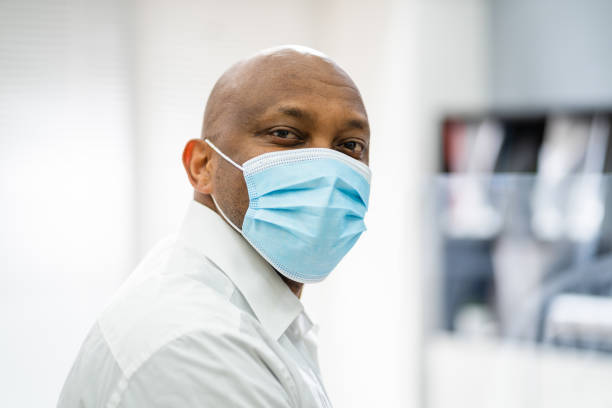with mask: (177, 43, 375, 283)
